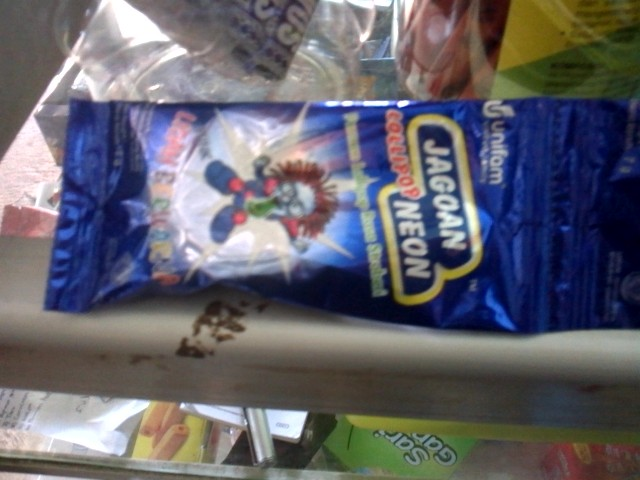jagoan neon: (47, 100, 561, 334)
